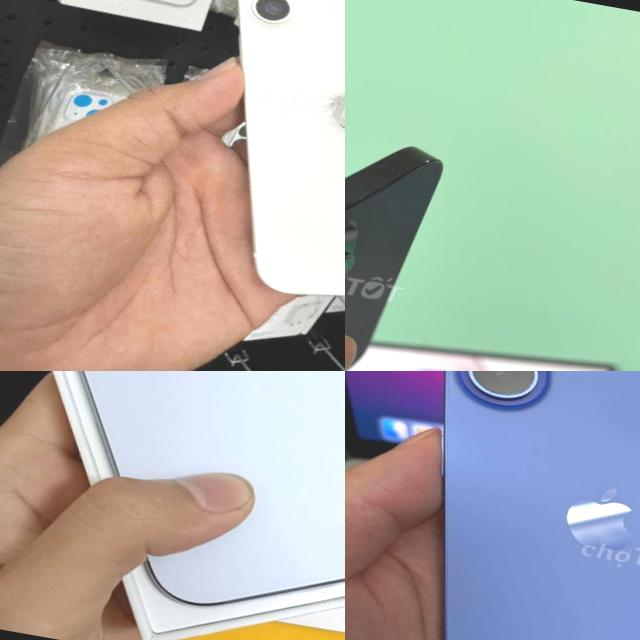gen_12_13: (179, 0, 345, 329)
gen_14: (345, 109, 484, 371)
gen_16: (355, 371, 640, 640)
gen_17: (0, 371, 345, 637)
